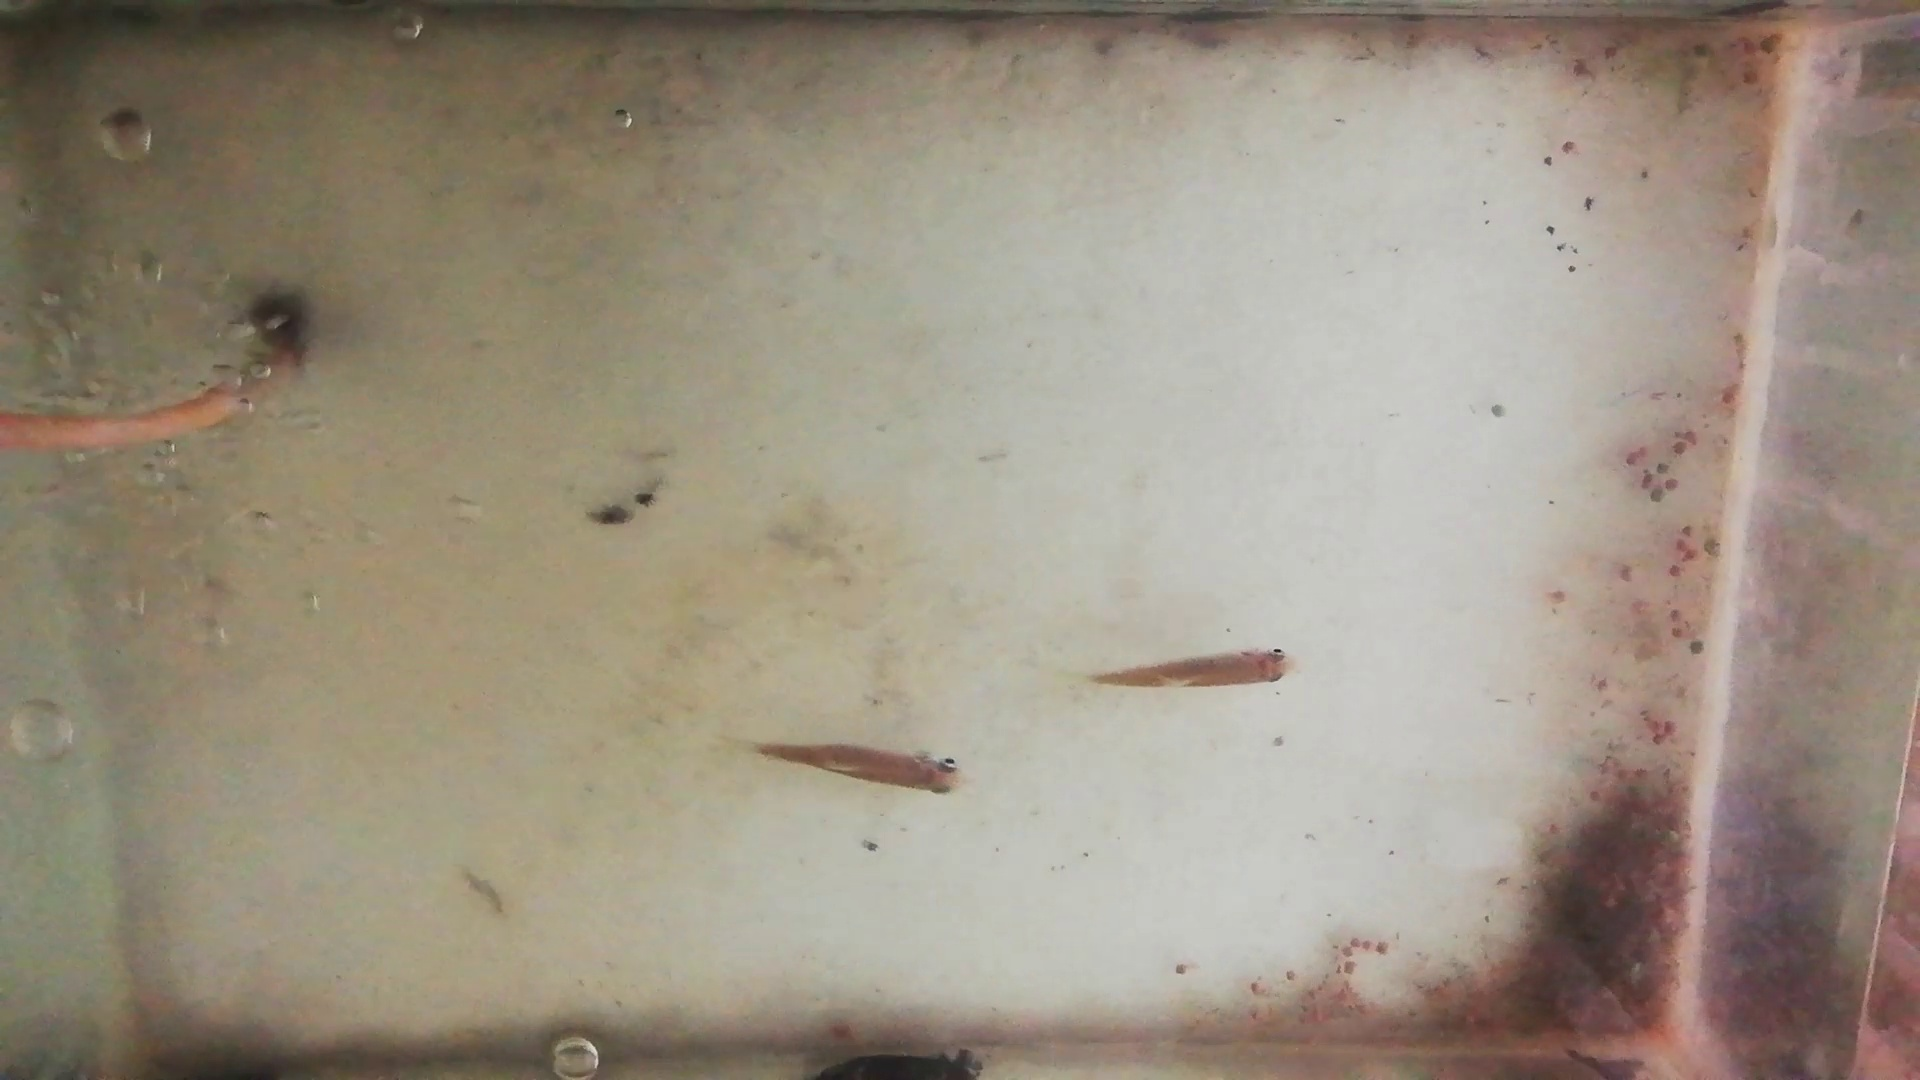fish: (752, 741, 967, 795), (1085, 647, 1298, 691)
